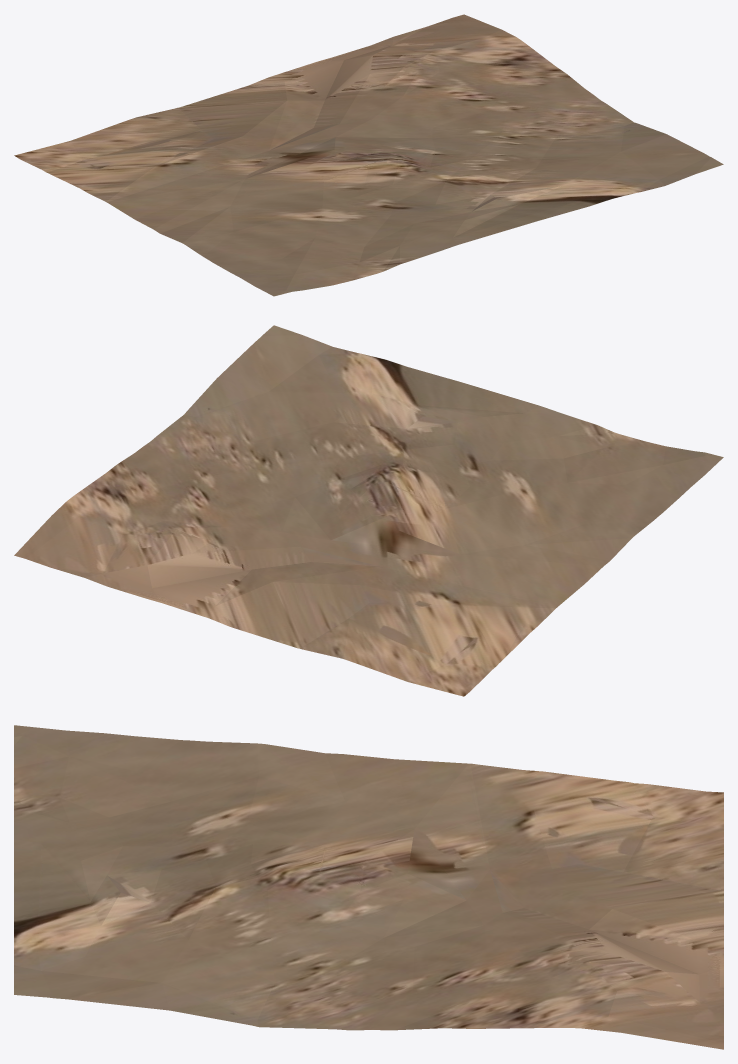
The picture shows the model from 3 angles, top to bottom: view 1: azimuth 30°, elevation 25°; view 2: azimuth 150°, elevation 25°; view 3: azimuth 270°, elevation 25°; orthographic projection. The views are drawn at different scales.
Size of the model in its own units: 2.09 by 0.3169 by 2.09.
2 materials, 2 textured.
